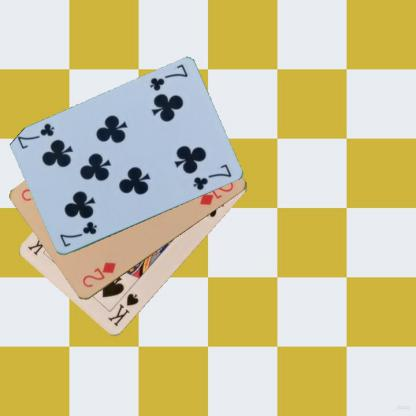2d: (80, 260, 117, 290)
7c: (147, 62, 189, 92), (57, 219, 98, 249)
Ks: (106, 291, 140, 328)
